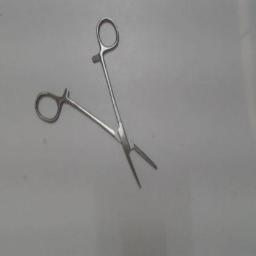Mayo Needle Holder: (32, 13, 166, 197)
